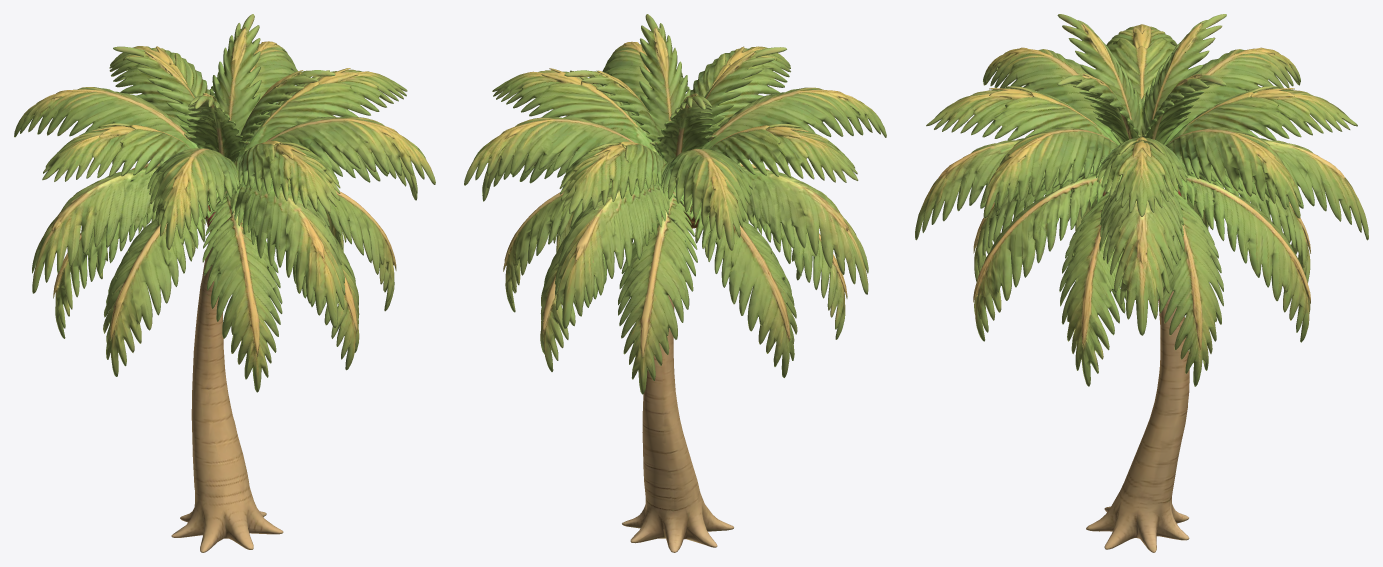
Rendered from palm-tree-meshy6-web-v1.glb.
The picture shows the model from 3 angles, left to right: view 1: azimuth 30°, elevation 25°; view 2: azimuth 150°, elevation 25°; view 3: azimuth 270°, elevation 25°; orthographic projection. The views are drawn at different scales.
Parts seen in each view (by area): view 1: Mesh_0.002; view 2: Mesh_0.002; view 3: Mesh_0.002.
Boxes of the visible parts, <box> form: Mesh_0.002: <box>14,14,435,552</box>; Mesh_0.002: <box>464,14,886,552</box>; Mesh_0.002: <box>915,14,1368,552</box>.
Bounding box in the file's own units: 4.26 × 5 × 4.25.
1 material, 1 textured.
